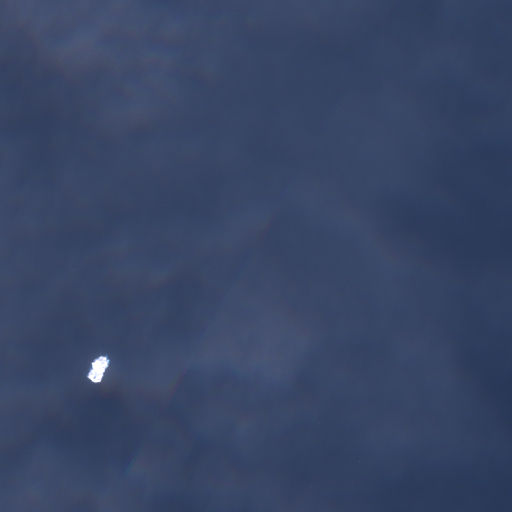Iceberg: (87, 356, 109, 382)
